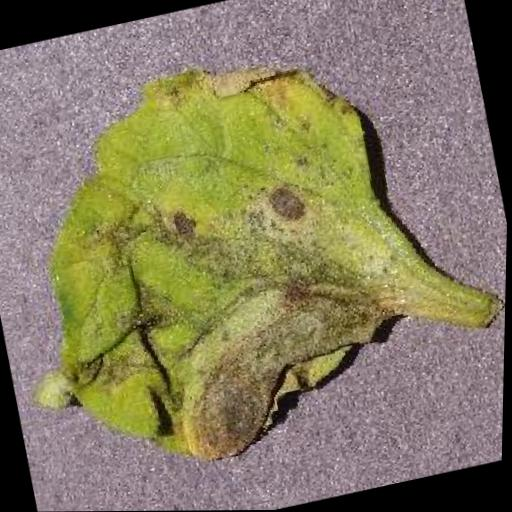Septoria: (0, 29, 434, 491)
